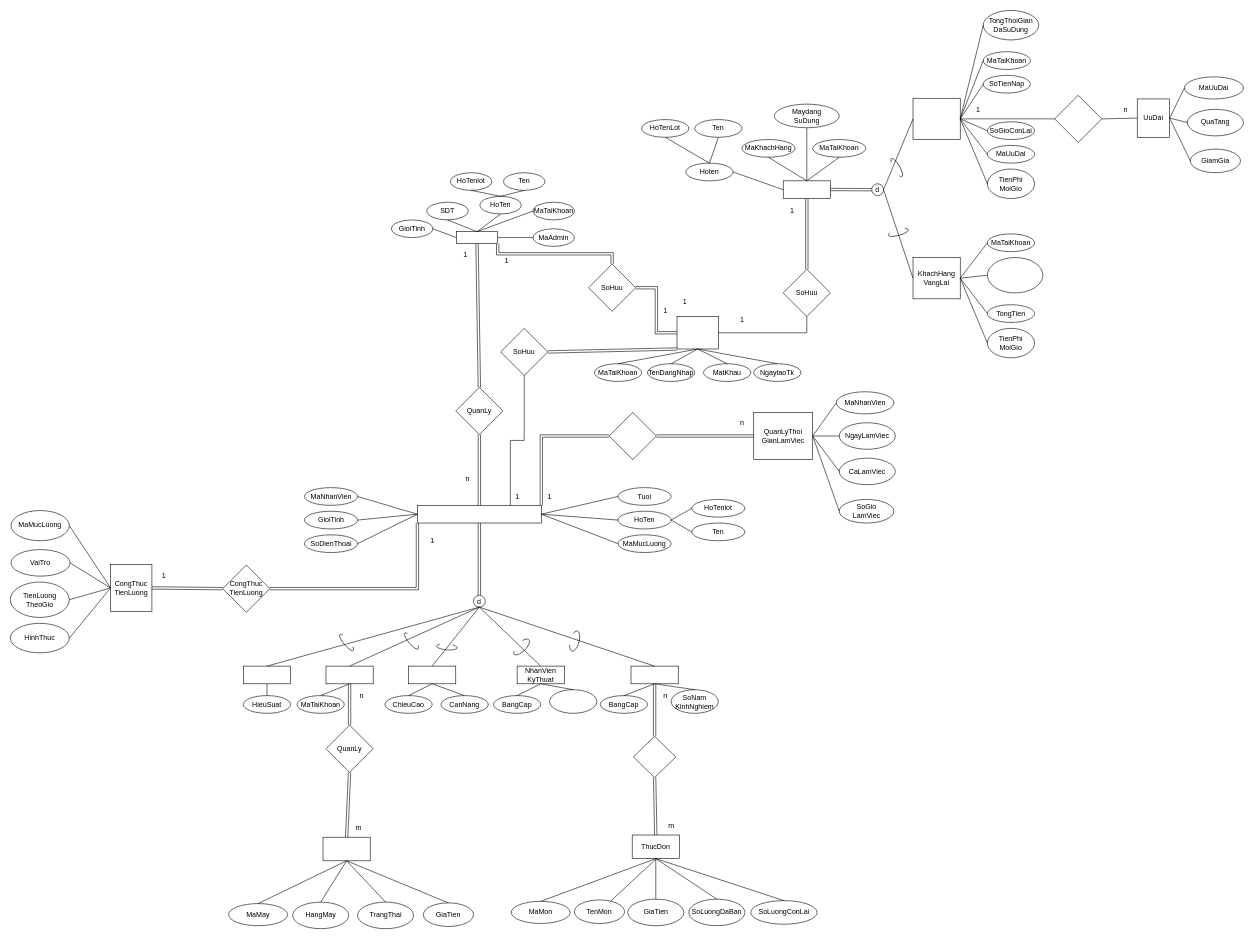
The diagram is 1254 pixels wide and 939 high, and some of its shapes have lost their labels. Here are the shapes that lost their labels. From the top down, the box of each, then its label:
(912, 98, 960, 140): KhachHang ThuongXuyen
(1054, 95, 1102, 142): NhanUuDai
(783, 180, 830, 199): KhachHang
(456, 231, 498, 243): Admin
(987, 257, 1043, 293): SoGioDang SuDung
(676, 316, 718, 349): TaiKhoan
(609, 412, 656, 460): LamViec
(417, 505, 541, 523): NhanVien
(243, 666, 291, 684): PhucVu
(325, 666, 373, 684): ThuNgan
(408, 666, 456, 684): BaoVe
(630, 666, 678, 684): DauBep
(549, 689, 597, 713): ChungChi BoSung
(633, 736, 676, 778): Nấu
(322, 837, 370, 861): MayTinh
